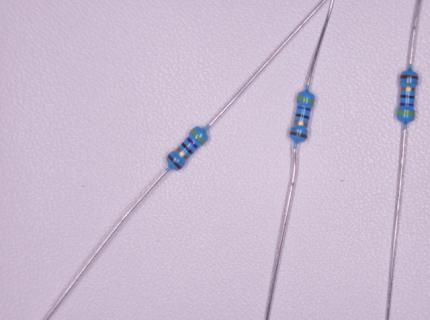Black band: (180, 142, 194, 155), (295, 113, 309, 119), (400, 95, 415, 99)
Brown band: (167, 154, 183, 169), (290, 131, 308, 139), (400, 74, 418, 80)
Gold band: (176, 147, 189, 160), (294, 120, 309, 127), (401, 86, 415, 92)
Violet band: (186, 136, 200, 149), (297, 106, 312, 111), (400, 102, 414, 107)
Yellow band: (190, 129, 205, 145), (296, 96, 314, 104), (397, 110, 416, 117)
